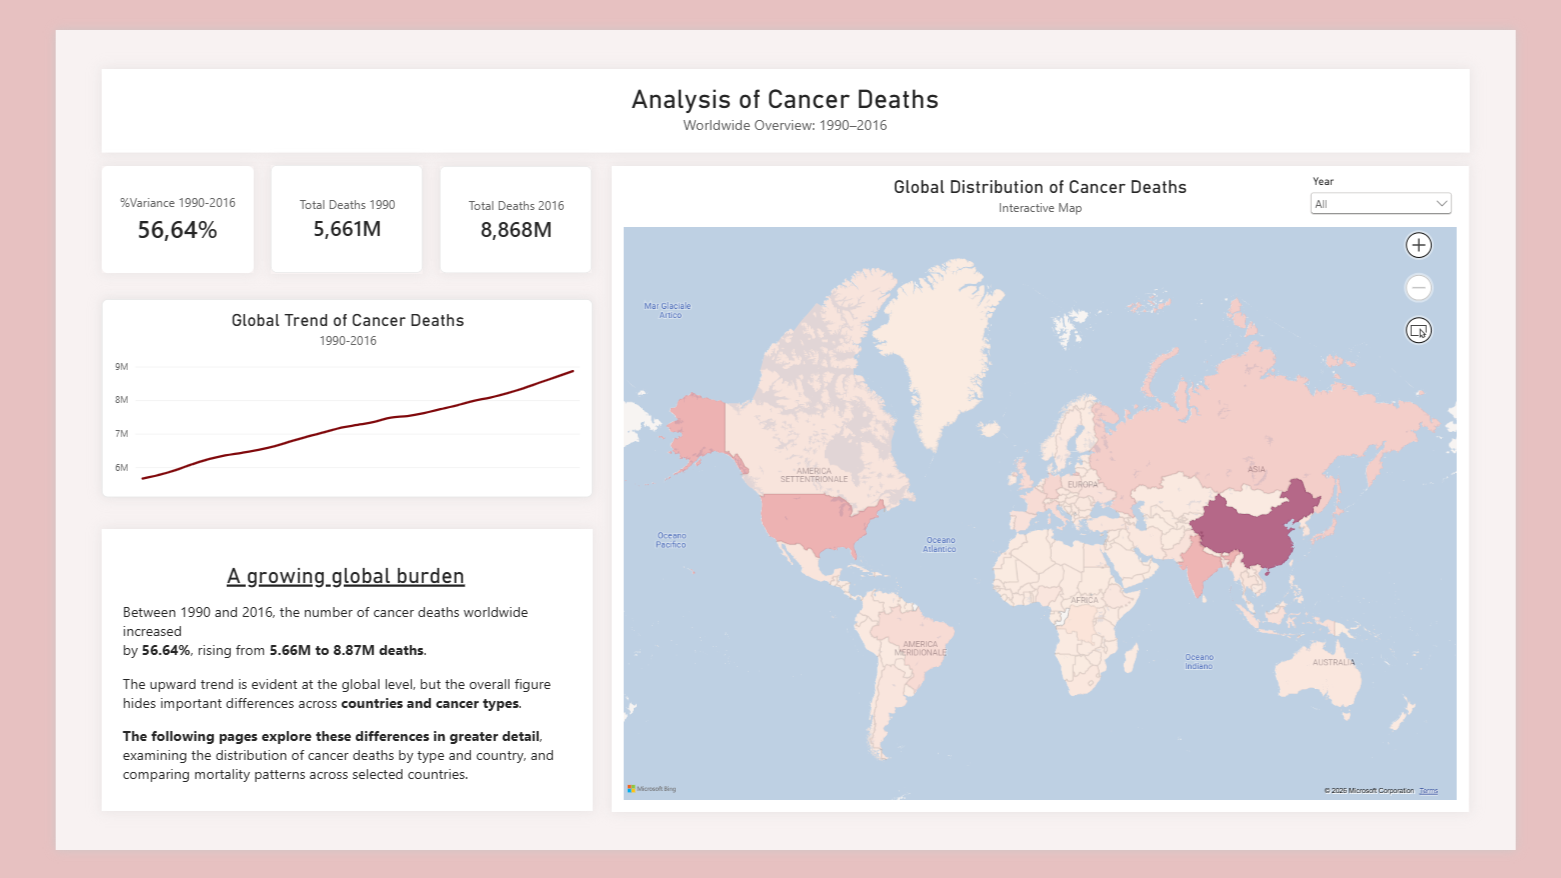

What the dashboard file says about the page in this screenshot:
{"tool":"powerbi","page":{"name":"Worldwide Overview","canvas":[1920,1080],"ordinal":0},"visuals":[{"type":"textbox","title":"back","box":[60,657.1,645.7,371.4],"z":0},{"type":"textbox","title":"back","box":[60,51.7,1800,110],"z":2000},{"type":"textbox","title":"Analysis of Cancer Deaths","box":[733.3,71.7,453.8,68.8],"z":3000},{"type":"filledMap","title":"Global Distribution of Cancer Deaths","fields":{"Category":["Countries_ID.Country"]},"box":[731.7,178.3,1128.3,850],"z":4000},{"type":"lineChart","title":"Global Trend of Cancer Deaths","fields":{"Category":["World_cancer_deaths.Entity","World_cancer_deaths.Years"],"Y":["Sum(World_cancer_deaths.Total)"]},"box":[60,354.3,645.7,261.4],"z":5000},{"type":"cardVisual","title":"Cancer Deaths","fields":{"Data":["00_Measures_Table.var_%_1990_2016"]},"box":[60,178.6,200,141.4],"z":6000},{"type":"slicer","title":"Year","fields":{"Values":["Years_ID.Year"]},"box":[1645.7,191.4,195.7,57.1],"z":7000},{"type":"cardVisual","fields":{"Data":["00_Measures_Table.Total Deaths 2016"]},"box":[505.7,178.6,200,141.4],"z":8000},{"type":"cardVisual","title":"Deaths in 1990","fields":{"Data":["00_Measures_Table.Total Deaths 1990"]},"box":[282.9,177.1,200,142.9],"z":9000},{"type":"textbox","title":"a growing global burden","box":[88.6,681.4,587.1,324.3],"z":10000}]}

Visuals, with their boxes in screenshot pixels (x1, y1, x2, y2), scaled from the page's 1920x1080 canvas onto the 1561x878 screenshot:
"back" textbox: (left=49, top=534, right=574, bottom=836)
"back" textbox: (left=49, top=42, right=1512, bottom=131)
"Analysis of Cancer Deaths" textbox: (left=596, top=58, right=965, bottom=114)
"Global Distribution of Cancer Deaths" filledMap: (left=595, top=145, right=1512, bottom=836)
"Global Trend of Cancer Deaths" lineChart: (left=49, top=288, right=574, bottom=501)
"Cancer Deaths" cardVisual: (left=49, top=145, right=211, bottom=260)
"Year" slicer: (left=1338, top=156, right=1497, bottom=202)
cardVisual - 00_Measures_Table.Total Deaths 2016: (left=411, top=145, right=574, bottom=260)
"Deaths in 1990" cardVisual: (left=230, top=144, right=393, bottom=260)
"a growing global burden" textbox: (left=72, top=554, right=549, bottom=818)
